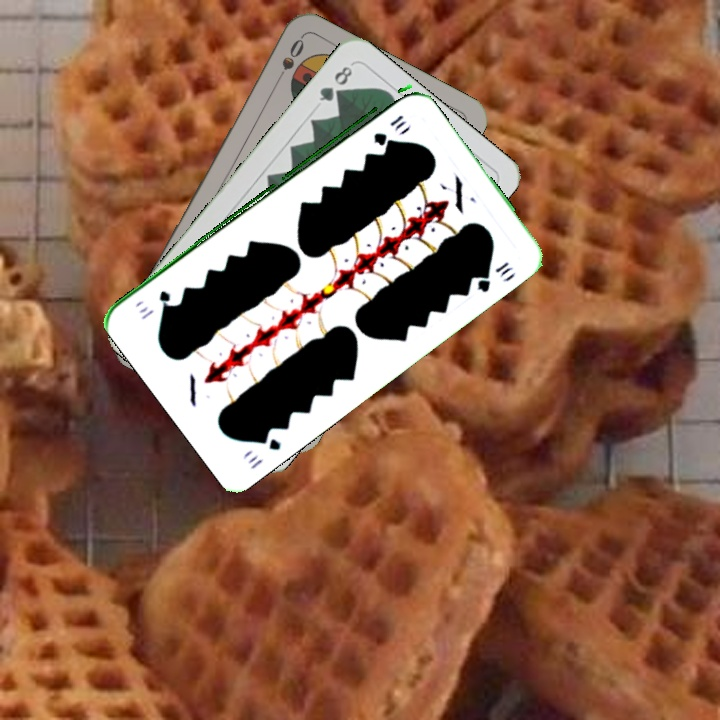G10: (245, 428, 284, 472), (369, 110, 408, 147)
G8: (315, 62, 355, 105)
SO: (270, 34, 307, 88)
